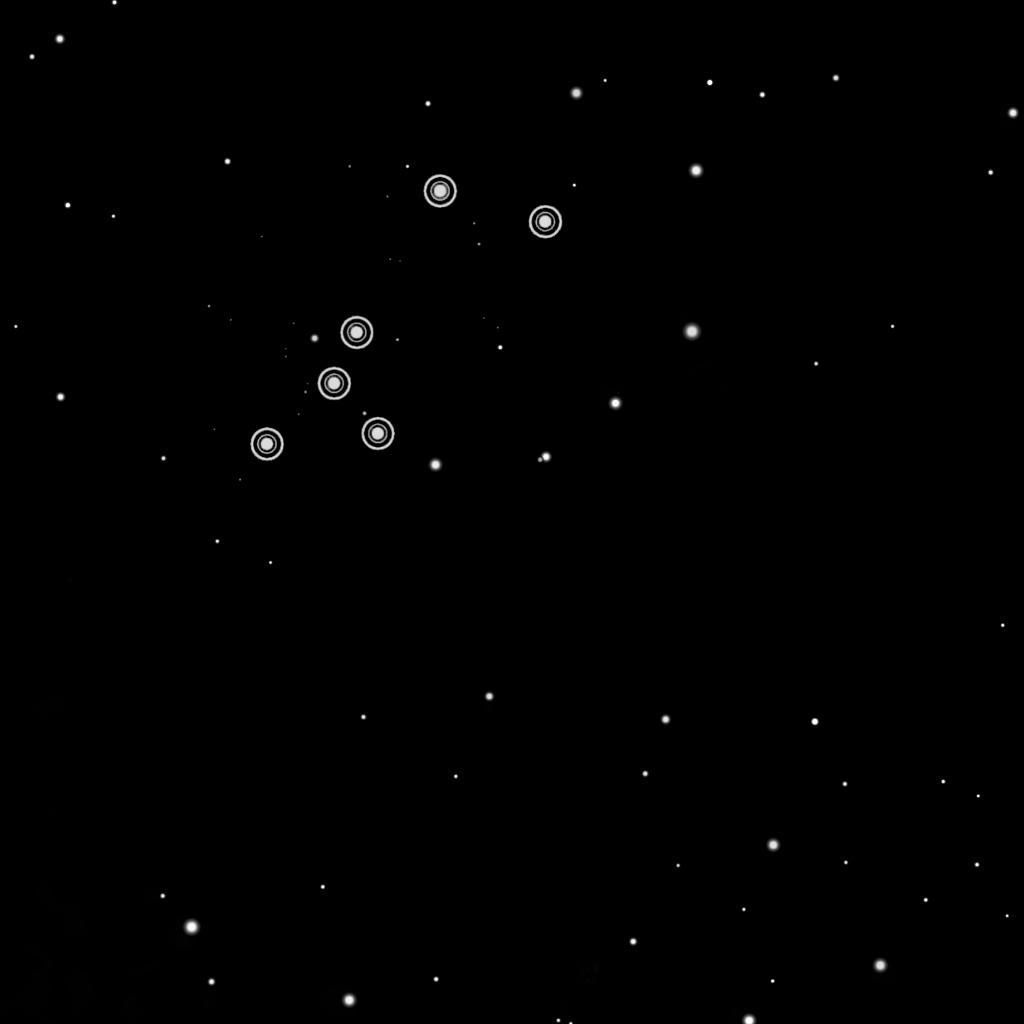canis_major: (241, 167, 576, 470)
